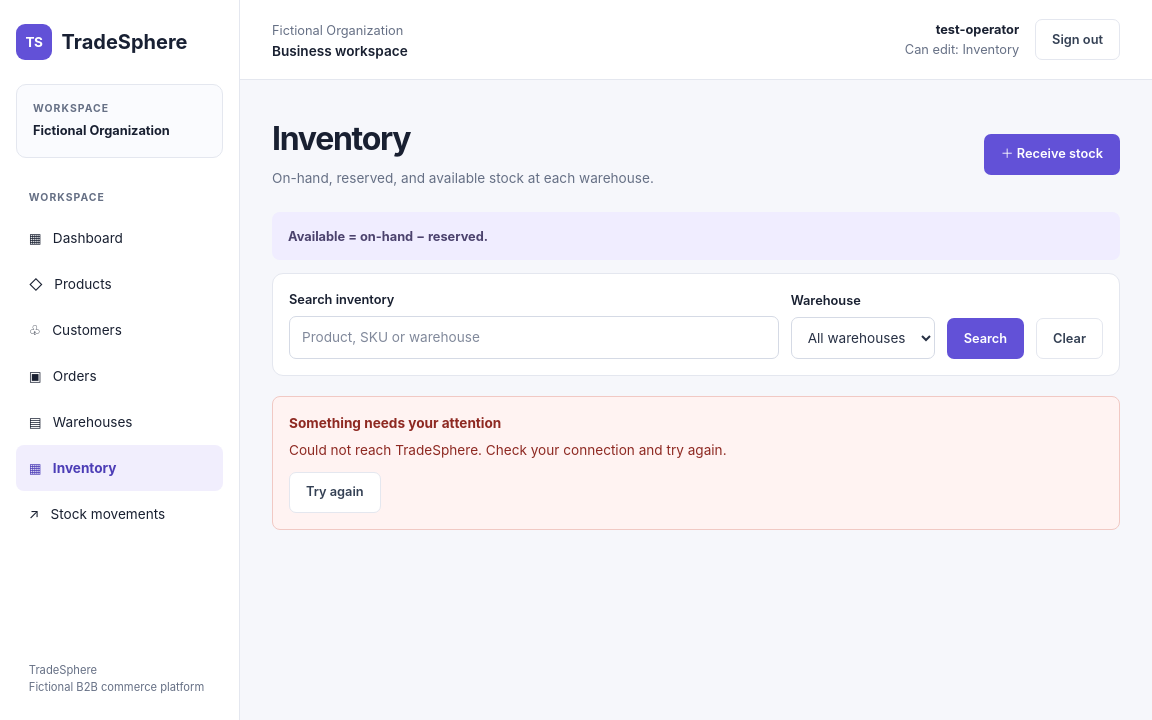
Test: warehouse and inventory interactions › recovers from inventory failures and shows an honest empty state
Expected: the message shows "Could not reach TradeSphere", [289,442,727,458]
Click the button "Try again" at (335, 492), box [289,472,381,513]
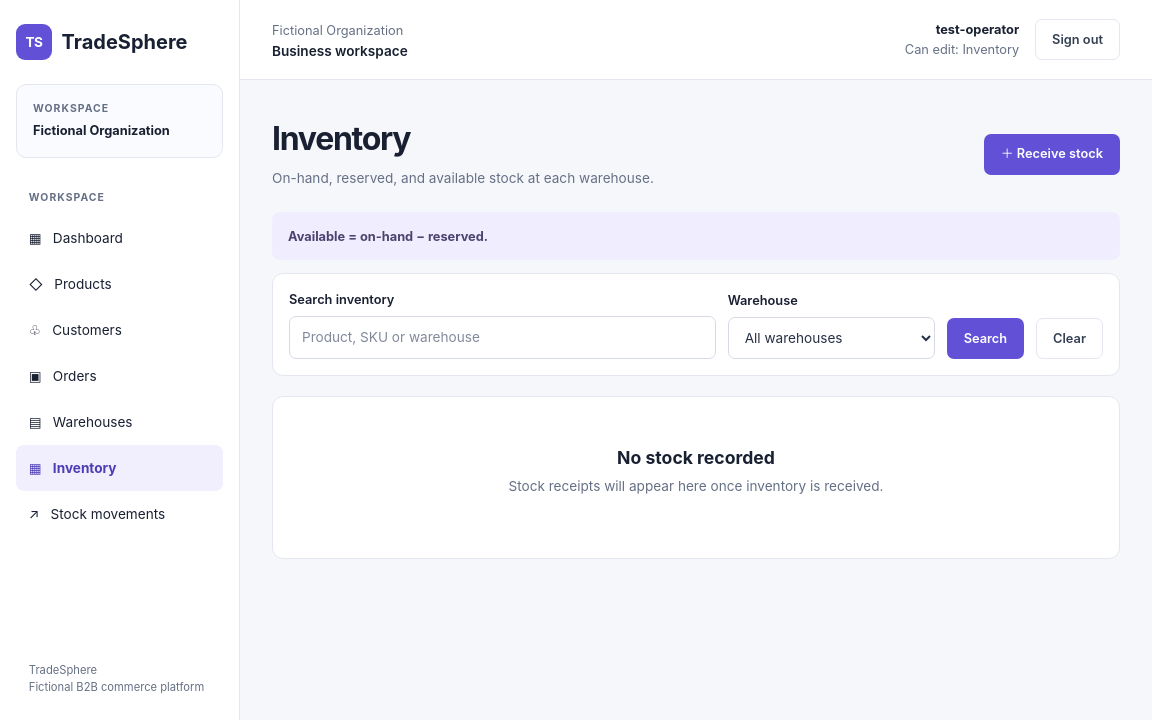
Now the heading "No stock recorded" is shown, box [617,447,775,468]
